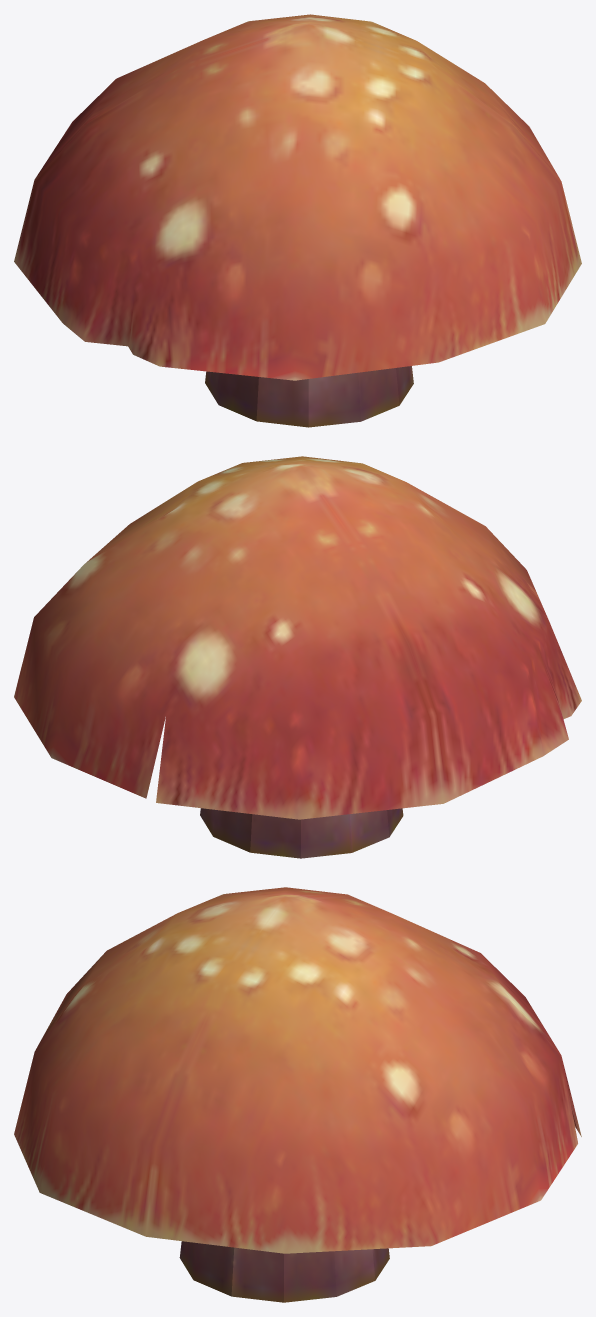
The model's file is gonghui_mogu_03 (13).fbx.
The picture shows the model from 3 angles, top to bottom: view 1: azimuth 30°, elevation 25°; view 2: azimuth 150°, elevation 25°; view 3: azimuth 270°, elevation 25°; orthographic projection. The views are drawn at different scales.
Visible parts, largest first — view 1: gonghui_mogu_03 (13); view 2: gonghui_mogu_03 (13); view 3: gonghui_mogu_03 (13).
Part boxes in pixels (left/top/right/bottom): gonghui_mogu_03 (13): left=14, top=14, right=581, bottom=427; gonghui_mogu_03 (13): left=14, top=456, right=581, bottom=858; gonghui_mogu_03 (13): left=14, top=887, right=581, bottom=1302.
Bounding box in the file's own units: 0.2709 × 0.1903 × 0.2718.
